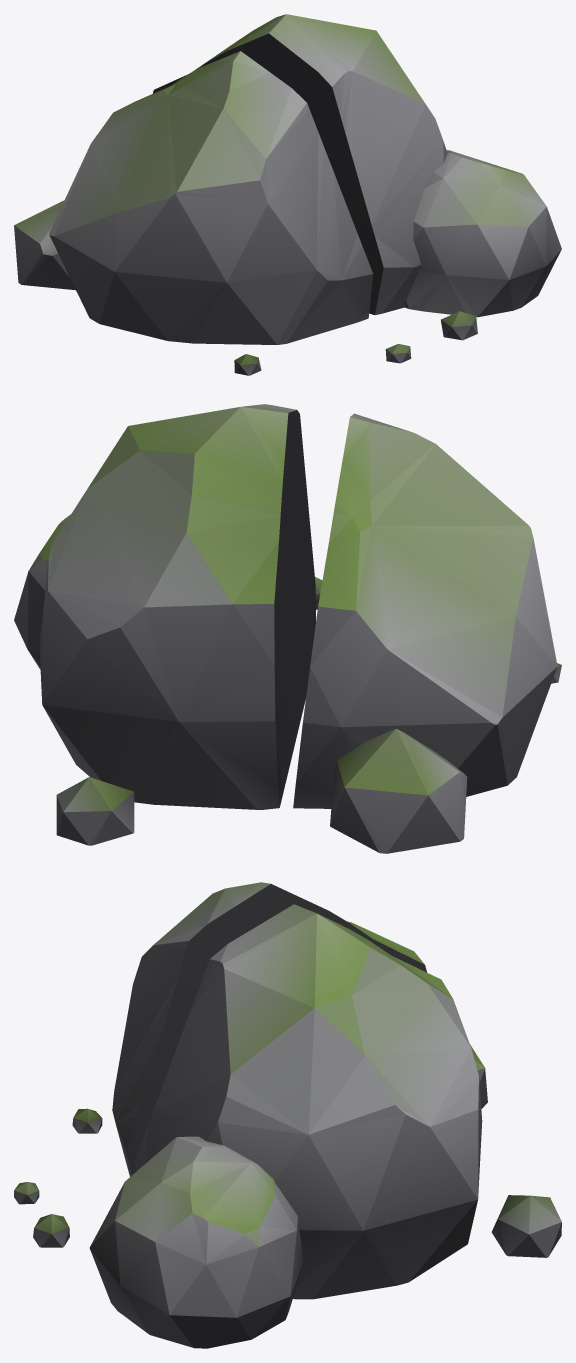
The model's file is rock-cracked.glb.
3 renders of one model, top to bottom at view 1: azimuth 30°, elevation 25°; view 2: azimuth 150°, elevation 25°; view 3: azimuth 270°, elevation 25°, orthographic. The views are drawn at different scales.
Parts seen in each view (by area): view 1: 0_rock.001; view 2: 0_rock.001; view 3: 0_rock.001.
Part boxes in pixels (x1,y1,x2,y2): 0_rock.001: [14, 14, 561, 375]; 0_rock.001: [14, 404, 561, 853]; 0_rock.001: [14, 882, 561, 1348].
Bounding box in the file's own units: 2.41 × 1.48 × 2.27.
